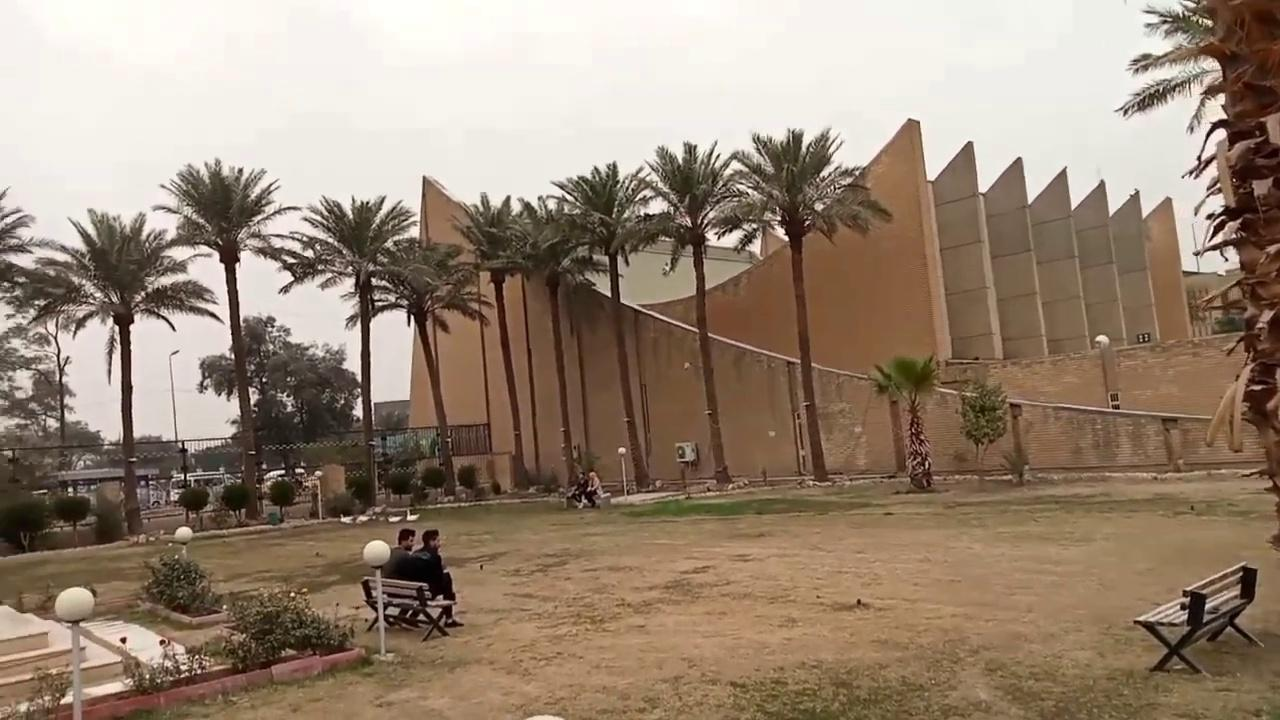person: (410, 529, 464, 627), (381, 527, 421, 628), (567, 471, 588, 508), (583, 469, 602, 507)
tree: (1113, 0, 1279, 546), (25, 206, 223, 534), (720, 125, 893, 481), (151, 156, 301, 522), (274, 192, 420, 511), (637, 139, 753, 486), (348, 236, 493, 500), (548, 160, 663, 492), (498, 194, 608, 491), (197, 313, 361, 505), (447, 191, 536, 492), (0, 186, 75, 478), (229, 311, 292, 516), (0, 185, 41, 456), (24, 299, 84, 466), (868, 351, 940, 488), (138, 524, 227, 625), (955, 377, 1008, 470), (0, 185, 36, 289), (0, 497, 50, 553), (49, 493, 90, 546), (176, 485, 209, 528), (219, 480, 249, 524), (344, 468, 373, 511), (267, 477, 295, 521), (385, 466, 414, 505), (420, 464, 446, 502), (455, 462, 479, 500)
